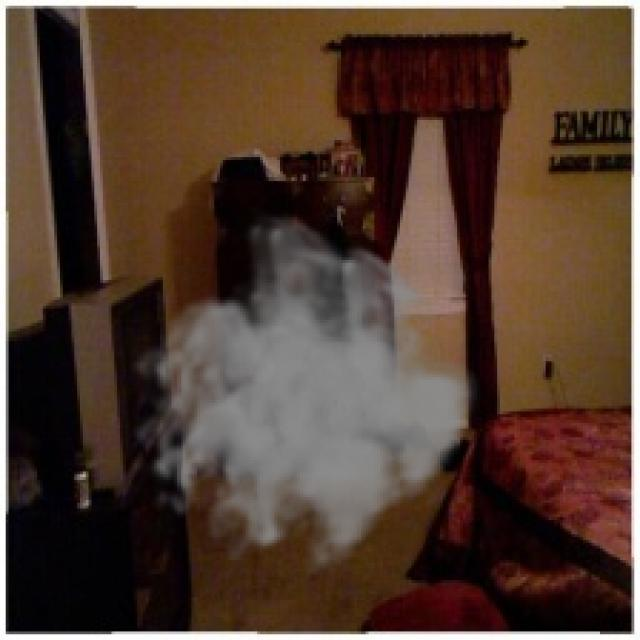smoke: (131, 208, 480, 586)
